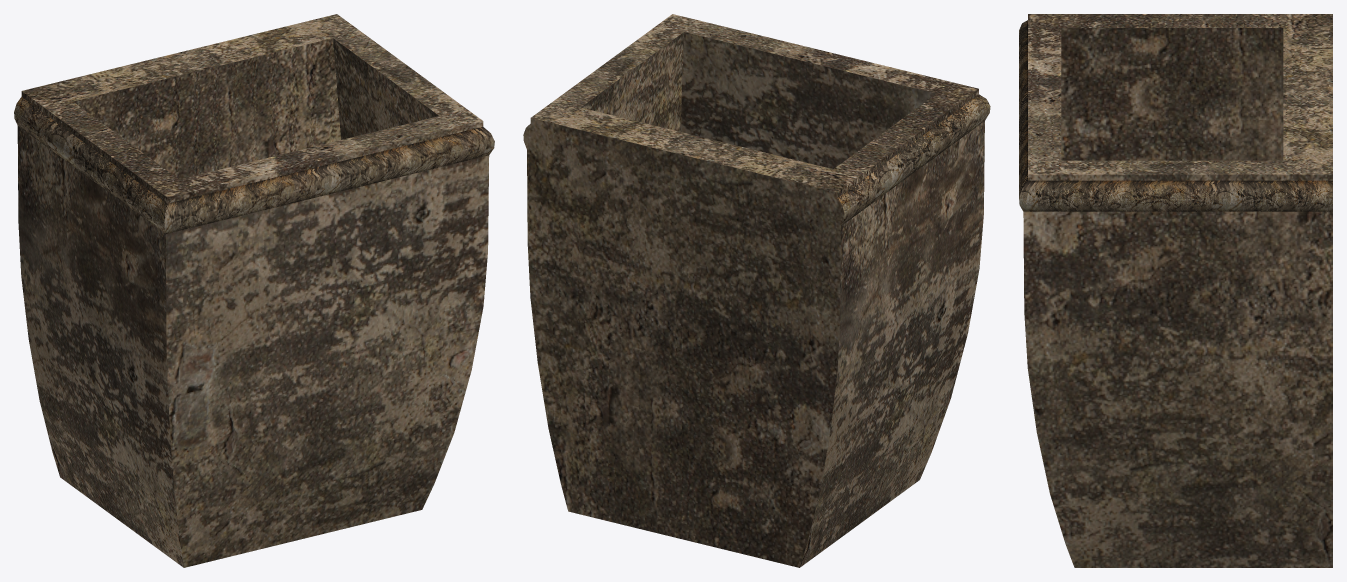
File: materials_5_pot_11.fbx
3 renders of one model, left to right at view 1: azimuth 30°, elevation 25°; view 2: azimuth 150°, elevation 25°; view 3: azimuth 270°, elevation 25°, orthographic. The views are drawn at different scales.
Parts seen in each view (by area): view 1: materials_5_pot_11; view 2: materials_5_pot_11; view 3: materials_5_pot_11.
Part boxes in pixels (left/top/right/bottom): materials_5_pot_11: left=14, top=14, right=494, bottom=567; materials_5_pot_11: left=523, top=14, right=990, bottom=567; materials_5_pot_11: left=1019, top=14, right=1332, bottom=567.
Size of the model in its own units: 25.73 by 29.44 by 20.28.
